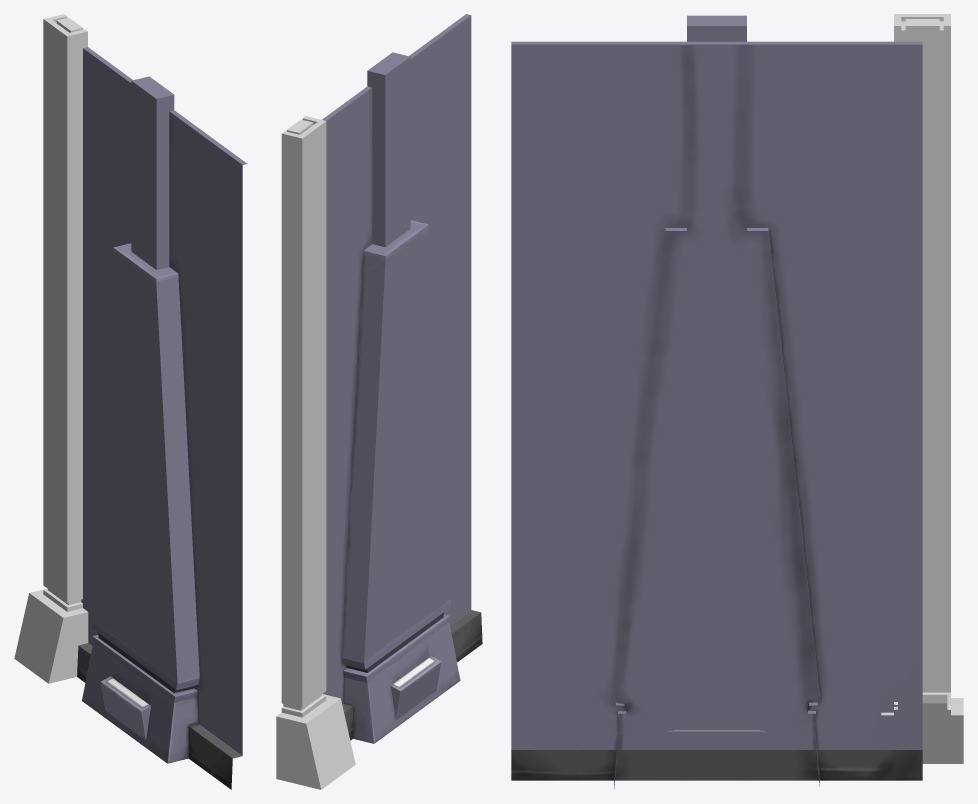
File: wall01_half.fbx
3 renders of one model, left to right at view 1: azimuth 30°, elevation 25°; view 2: azimuth 150°, elevation 25°; view 3: azimuth 270°, elevation 25°, orthographic. The views are drawn at different scales.
Visible parts, largest first — view 1: wall, pillar; view 2: wall, pillar; view 3: wall, pillar.
Part boxes in pixels (x1,y1,x2,y2): wall: [77, 47, 247, 789]; pillar: [14, 14, 88, 683]; wall: [322, 14, 482, 743]; pillar: [276, 116, 355, 789]; wall: [511, 15, 922, 789]; pillar: [881, 14, 963, 763].
Size of the model in its own units: 0.3 by 4.1 by 2.2.
1 material, 1 textured.
